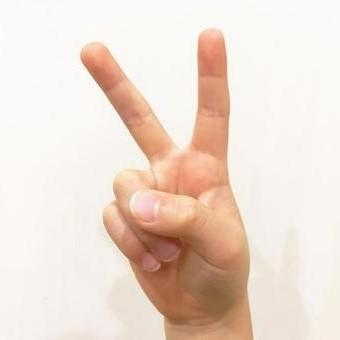tyoki: (78, 27, 251, 298)
